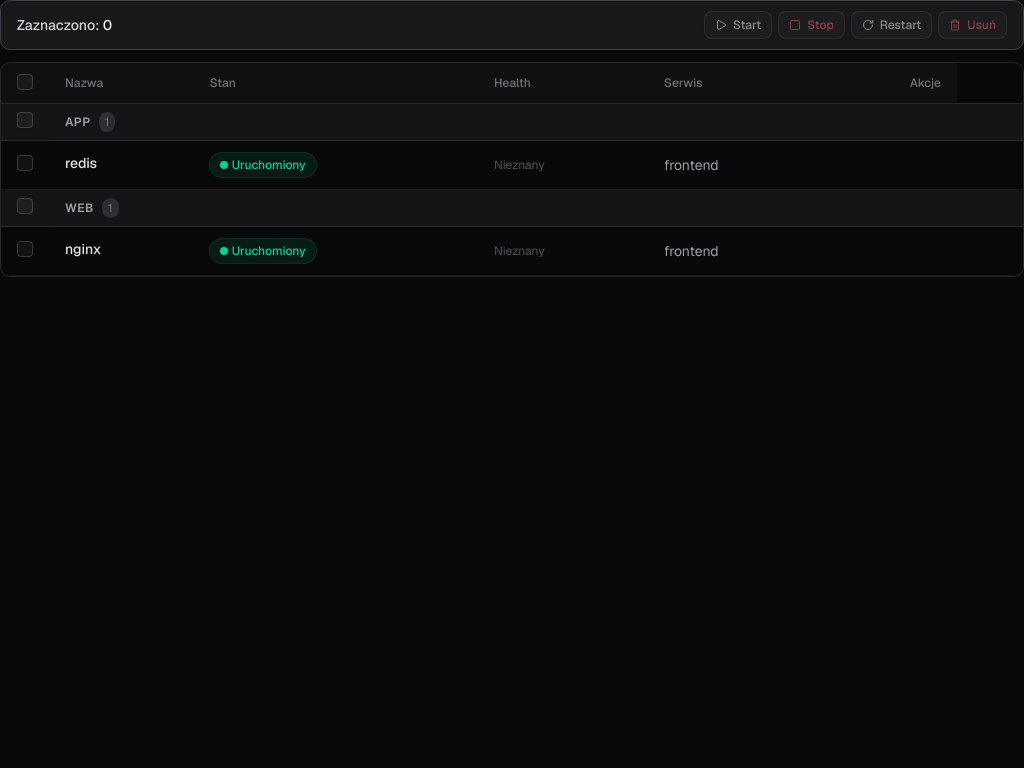
Test: BulkActionBar › opens delete dialog when Usuń is clicked
// Select all containers via the header checkbox so the Usuń button is enabled
Click the checkbox named "Zaznacz wszystkie" at (25, 82), box [17, 74, 33, 90]
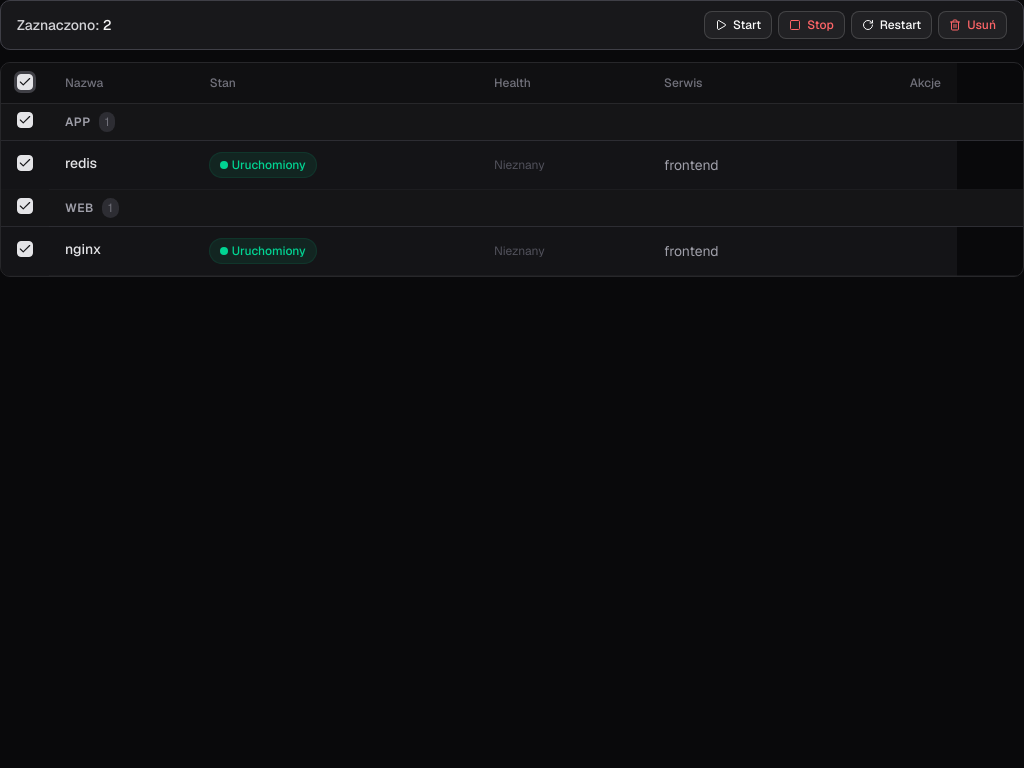
Click the button "Usuń" at (973, 25), box [938, 11, 1007, 39]
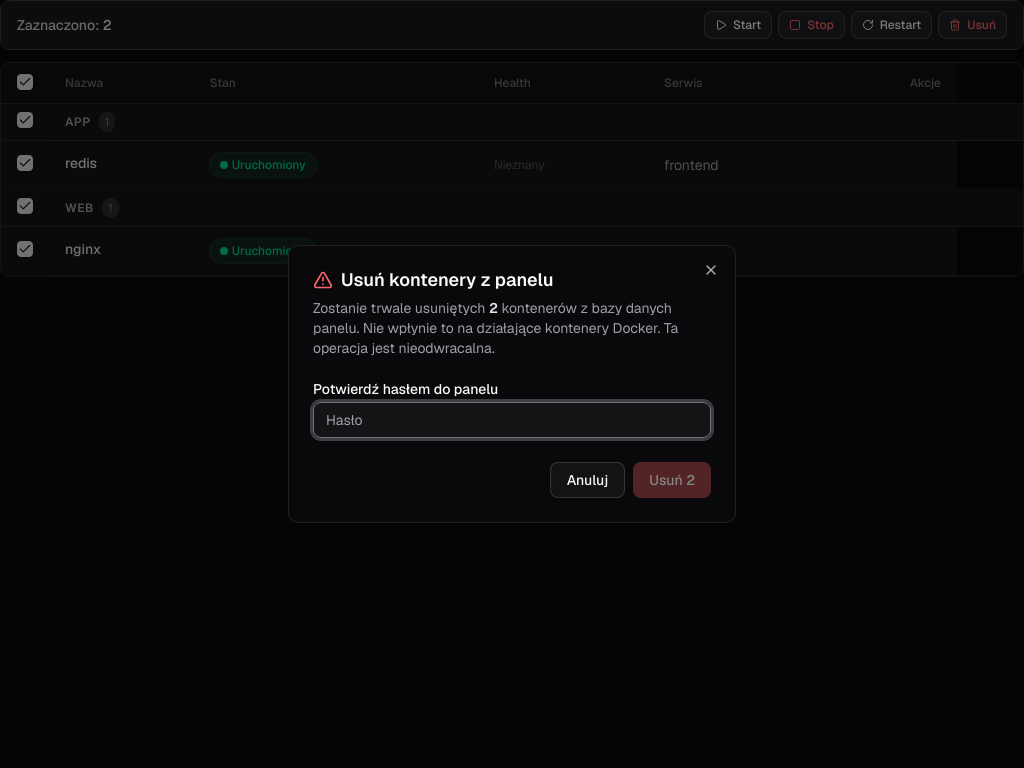
Now the password field with test id "bulk-delete-password" is shown, box [313, 402, 711, 438]
